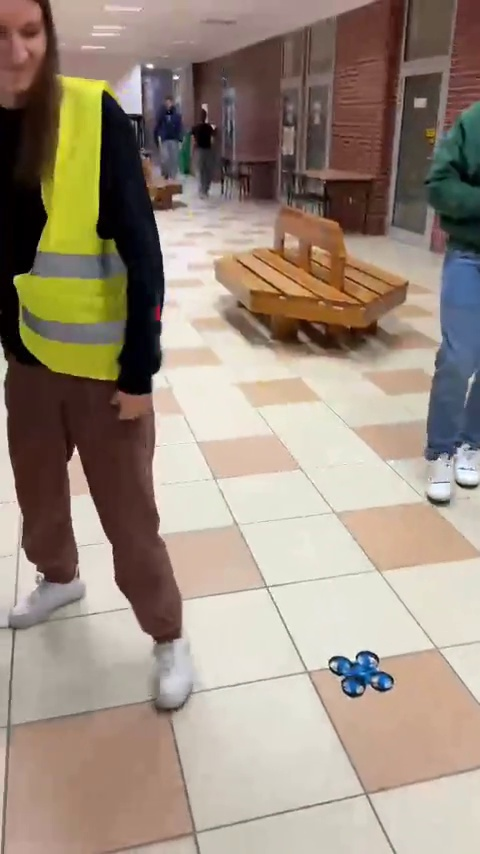drone: (330, 650, 397, 698)
no vest: (155, 93, 188, 182), (188, 113, 222, 193)
vest: (0, 0, 183, 692)
